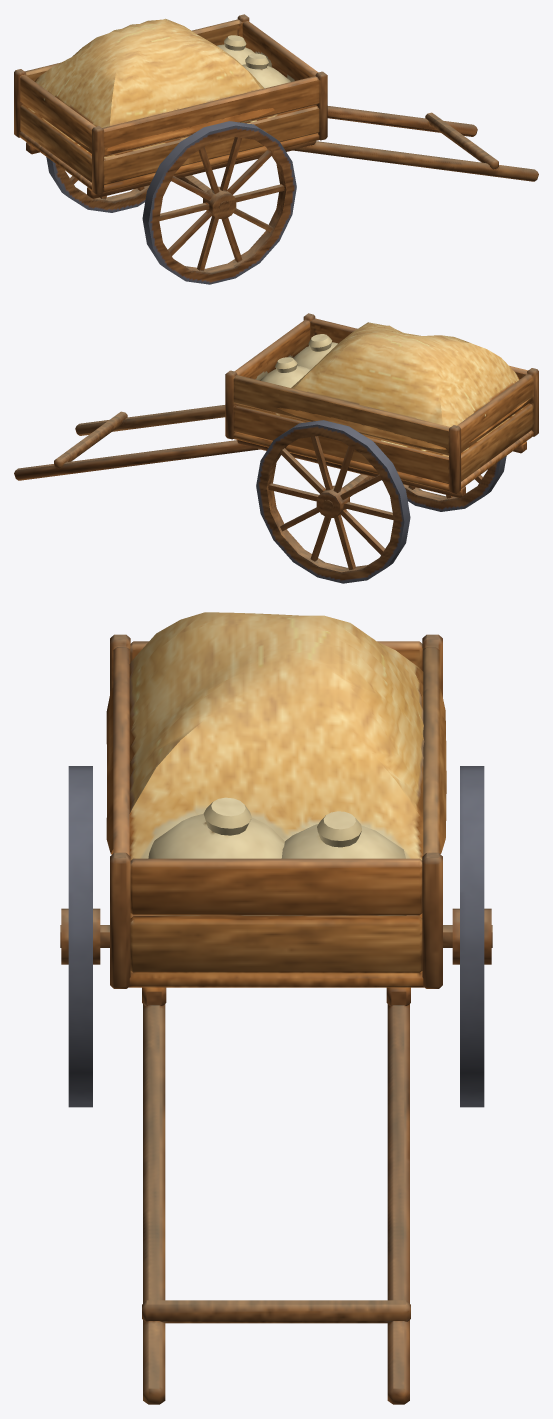
Rendered from hay_cart.glb.
3 views of the same model, one above another, from view 1: azimuth 30°, elevation 25°; view 2: azimuth 150°, elevation 25°; view 3: azimuth 270°, elevation 25° (orthographic). The views are drawn at different scales.
Visible parts, largest first — view 1: hay_cart_game; view 2: hay_cart_game; view 3: hay_cart_game.
Part boxes in pixels (x1,y1,x2,y2): hay_cart_game: (14, 14, 538, 284); hay_cart_game: (14, 313, 538, 583); hay_cart_game: (60, 612, 492, 1404).
Size of the model in its own units: 2.56 by 1.16 by 1.06.
1 material, 1 textured.
